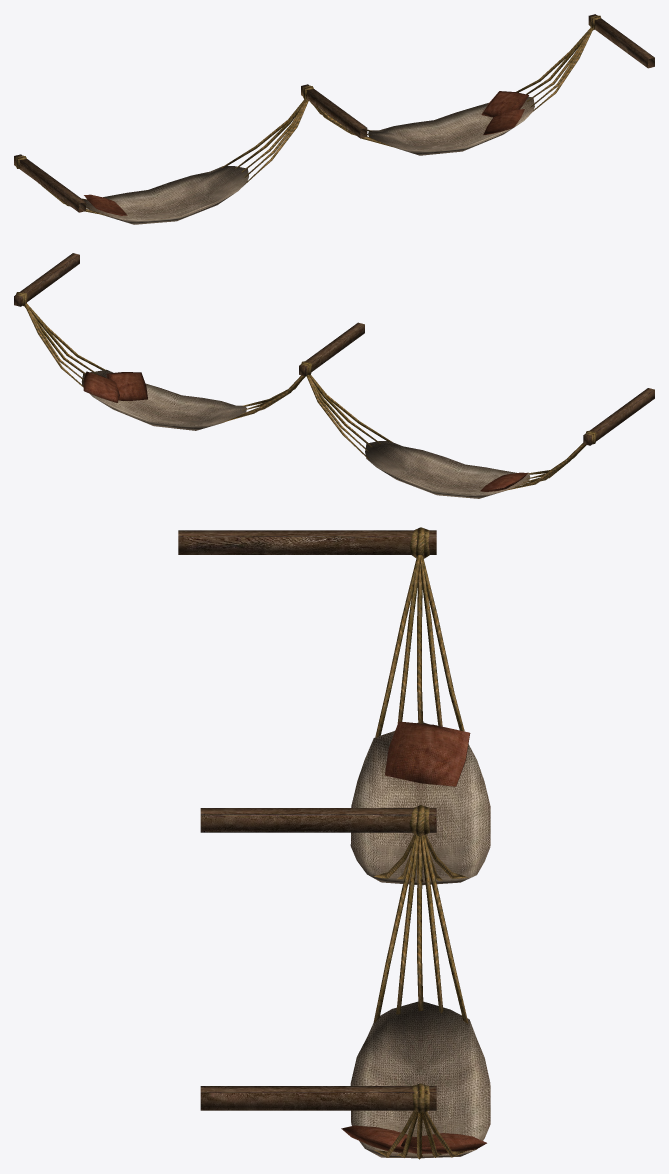
File: KM_VOB_HAMMOCK_02.glb
3 renders of one model, top to bottom at view 1: azimuth 30°, elevation 25°; view 2: azimuth 150°, elevation 25°; view 3: azimuth 270°, elevation 25°, orthographic. The views are drawn at different scales.
Parts seen in each view (by area): view 1: Mesh; view 2: Mesh; view 3: Mesh.
Part boxes in pixels (x1=…): Mesh: x1=14, y1=14, x2=654, y2=224; Mesh: x1=14, y1=253, x2=654, y2=498; Mesh: x1=178, y1=527, x2=490, y2=1159.
Size of the model in its own units: 7.02 by 1.07 by 1.64.
5 materials, 5 textured.
